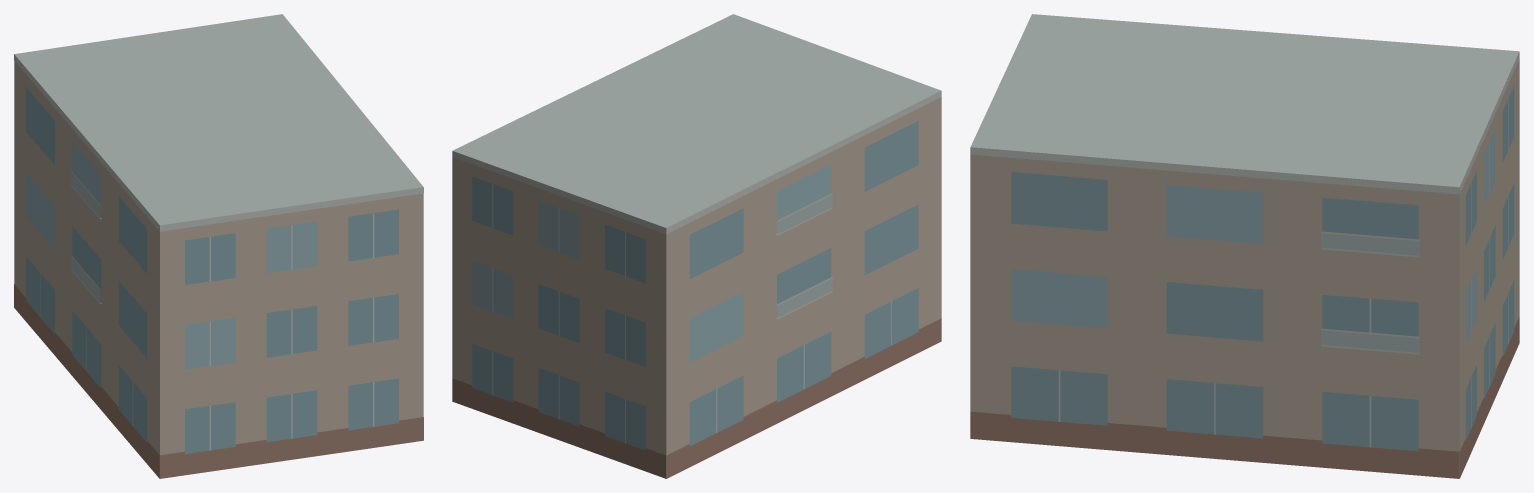
Rendered from survey-upis-32888559.glb.
3 views of the same model, side by side, from view 1: azimuth 30°, elevation 25°; view 2: azimuth 150°, elevation 25°; view 3: azimuth 270°, elevation 25° (orthographic). The views are drawn at different scales.
Parts seen in each view (by area): view 1: survey-upis-32888559.tmp; view 2: survey-upis-32888559.tmp; view 3: survey-upis-32888559.tmp.
Boxes of the visible parts, bbox=[...] form: survey-upis-32888559.tmp: bbox=[14, 14, 423, 478]; survey-upis-32888559.tmp: bbox=[452, 14, 941, 478]; survey-upis-32888559.tmp: bbox=[970, 14, 1519, 478].
Size of the model in its own units: 12.5 by 9.8 by 16.74.
